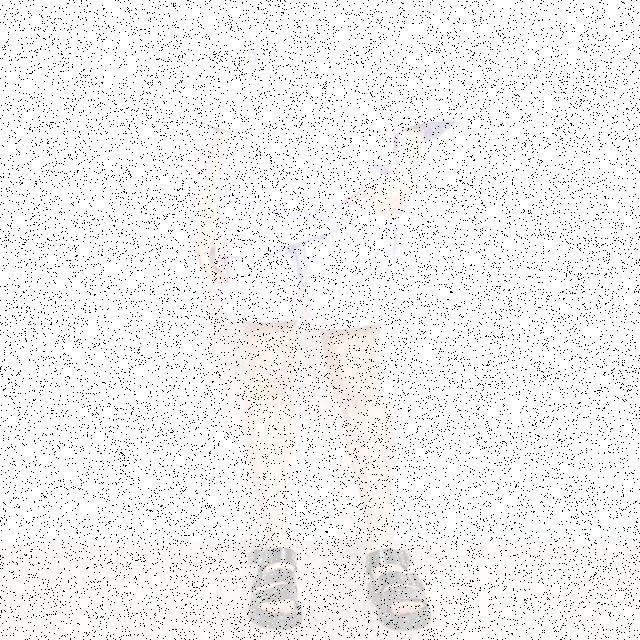dress: (186, 0, 450, 255), (223, 191, 397, 326)
